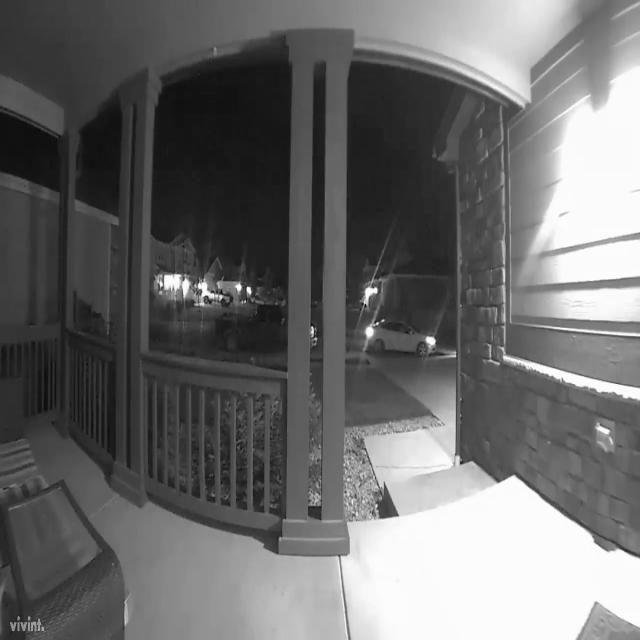car: (211, 288, 327, 361), (360, 304, 447, 361), (202, 286, 239, 310)
